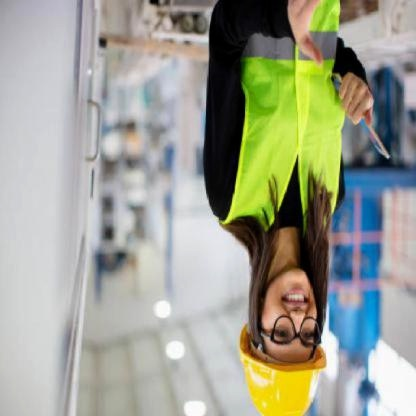vest: (212, 2, 347, 241)
yellow: (233, 328, 338, 414)
